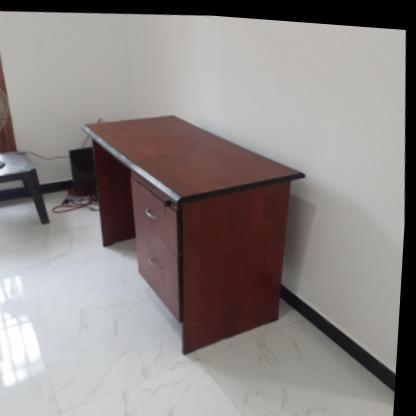Table: (61, 93, 333, 380)
